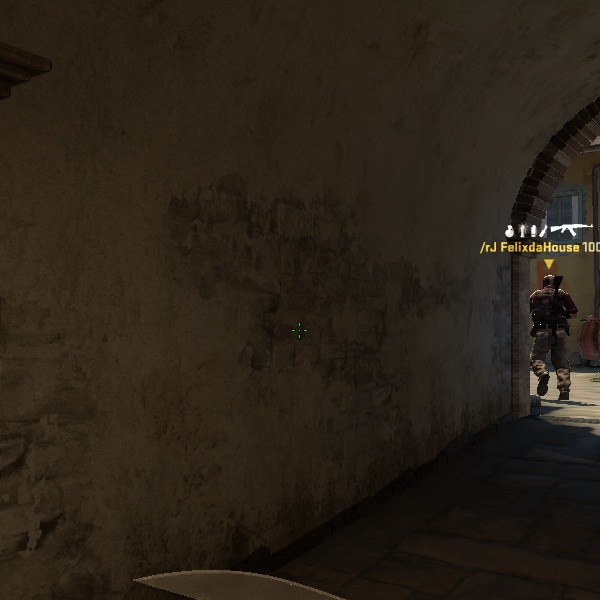t_body: (517, 270, 592, 405)
t_head: (539, 270, 569, 301)
